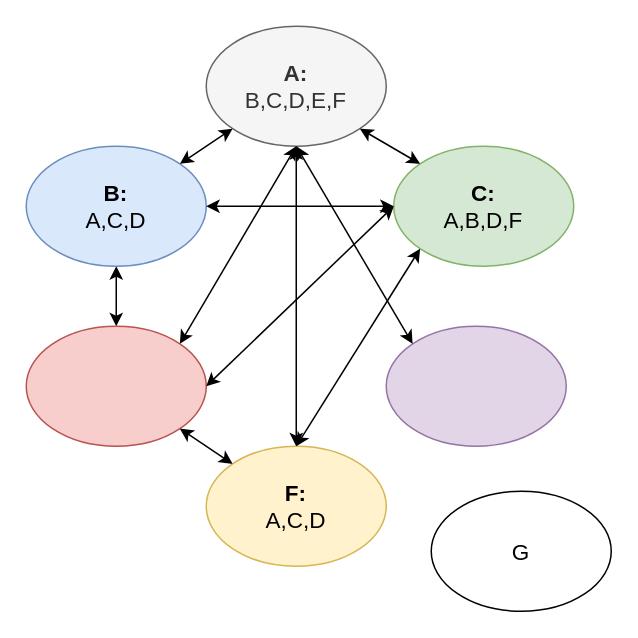
This 638x638 diagram has some shape labels left out. The shapes that lost their labels are listed below. From the top down, each one's centre as x and y in pixels, then its label:
At (x=115, y=385): "D: A,B,C,F".
At (x=475, y=385): "E: A".
